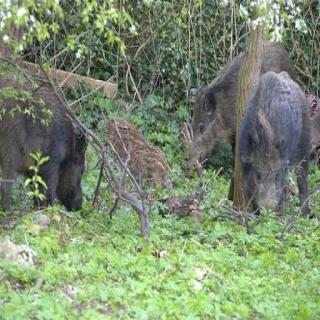Pig: (174, 39, 290, 173), (240, 76, 318, 223)
